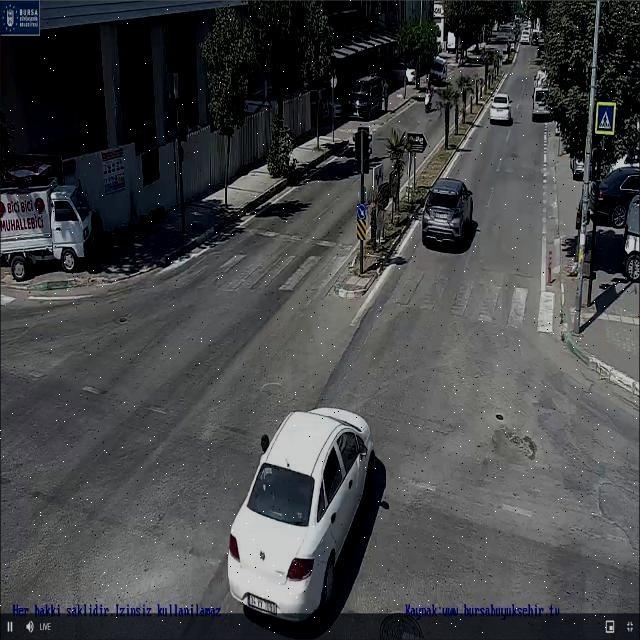Car: (225, 394, 378, 626), (418, 175, 484, 251), (489, 87, 523, 135)
Truck: (0, 171, 98, 276)
